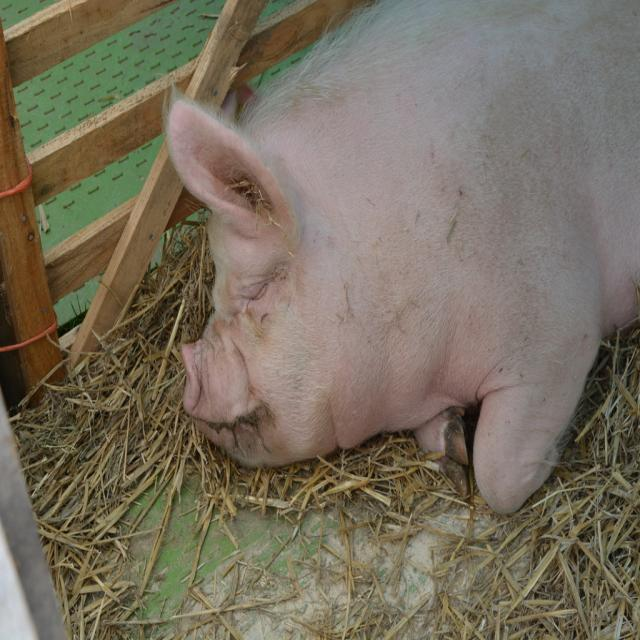Pig: (159, 0, 640, 518)
